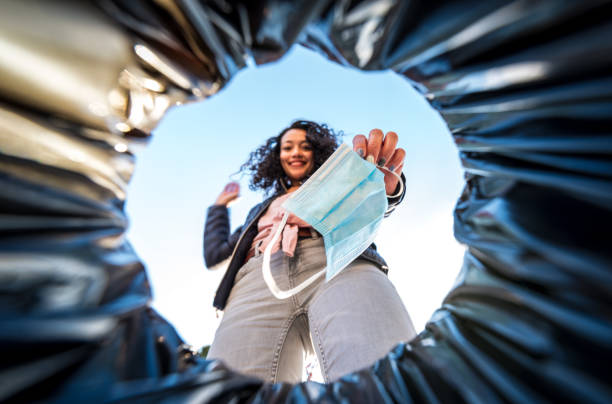without mask: (275, 130, 314, 177)
